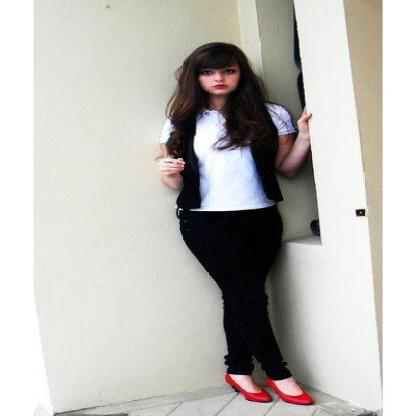jacket: (165, 132, 283, 214)
pants: (177, 208, 291, 380)
shirt: (190, 108, 311, 210)
shoe: (226, 374, 316, 405)
